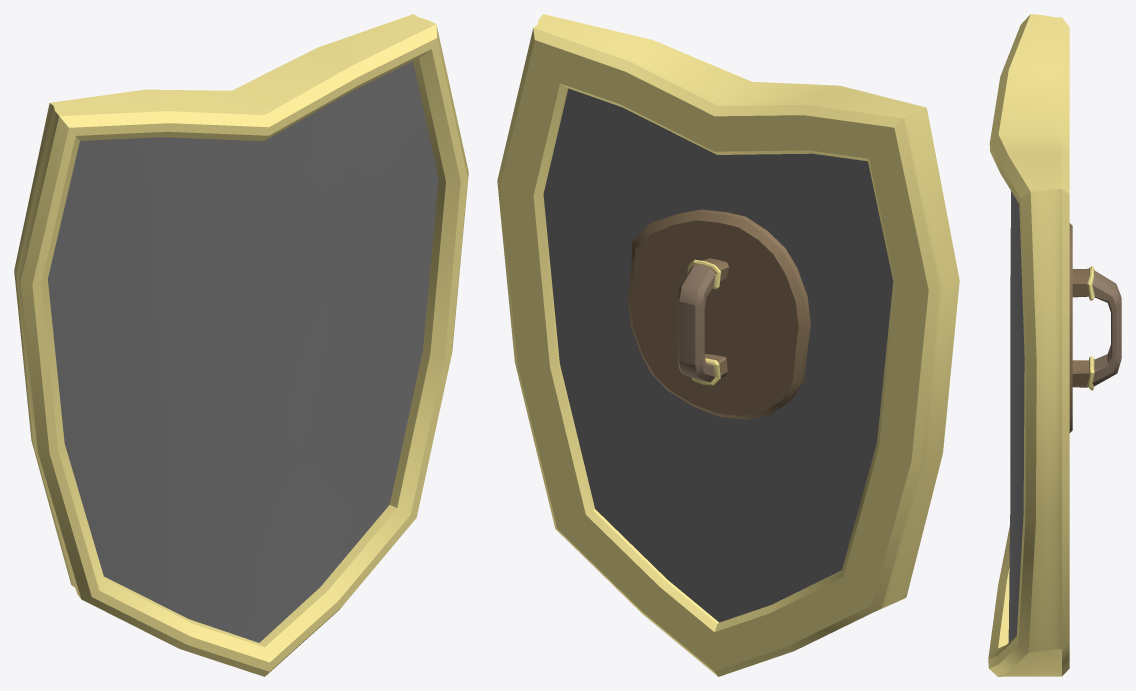
Rendered from SM_Shield.fbx.
The picture shows the model from 3 angles, left to right: view 1: azimuth 30°, elevation 25°; view 2: azimuth 150°, elevation 25°; view 3: azimuth 270°, elevation 25°; orthographic projection. The views are drawn at different scales.
Visible parts, largest first — view 1: SM_Shield; view 2: SM_Shield; view 3: SM_Shield.
Boxes of the visible parts, box(x1,y1,x2,y2) form: SM_Shield: box(14, 14, 468, 676); SM_Shield: box(497, 14, 959, 676); SM_Shield: box(988, 14, 1121, 676).
Size of the model in its own units: 30.98 by 39.27 by 8.27.
